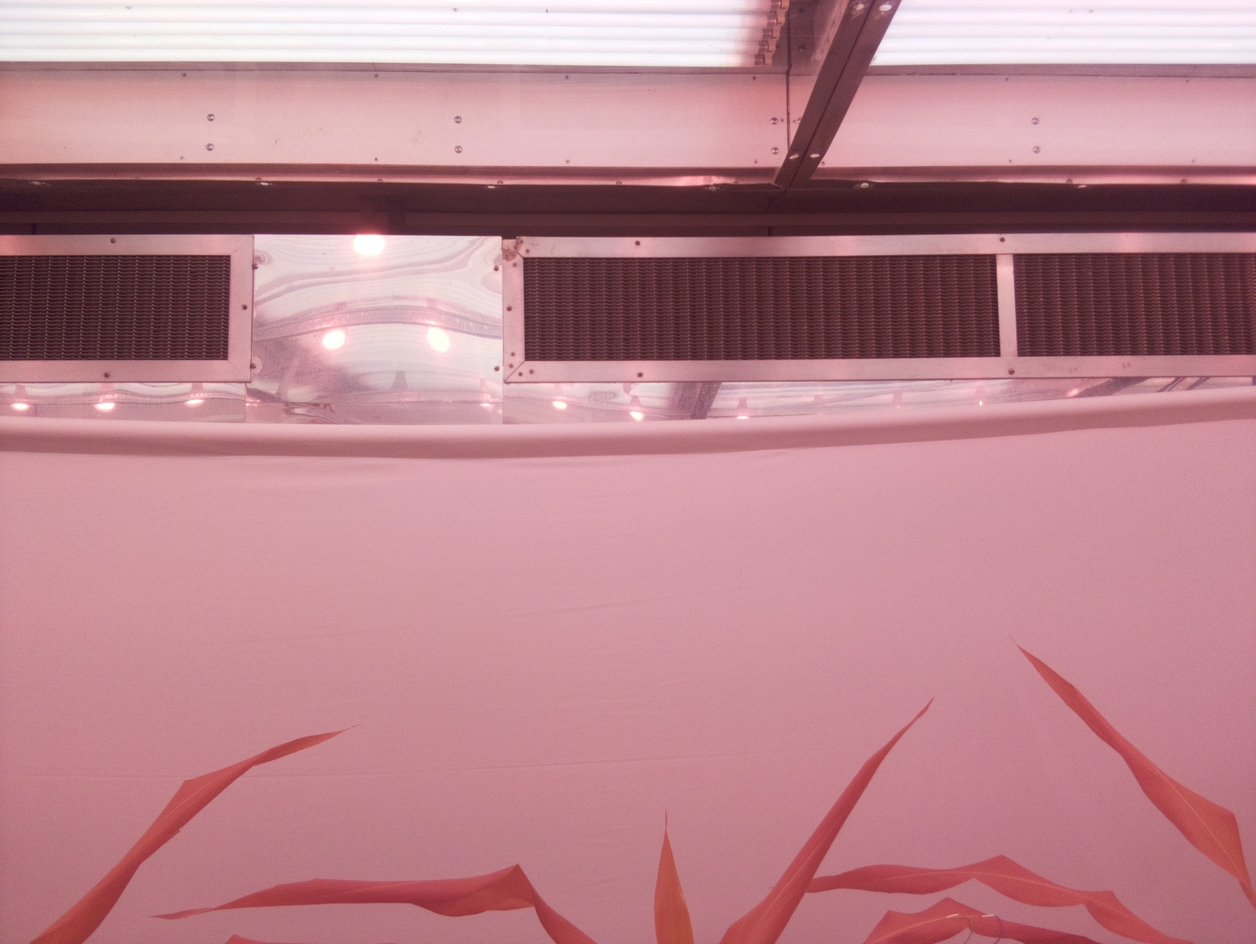maize: (653, 693, 1194, 944), (29, 724, 601, 944), (1009, 636, 1256, 918)
